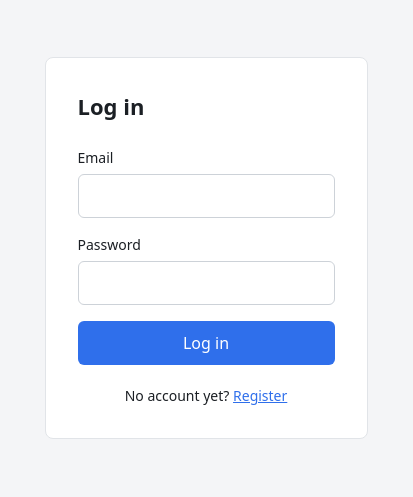
Scenario: login and protected page › returns to login with a notice when the token is rejected
In the field labelled "Email": point(206, 196) x1=78 y1=174 x2=334 y2=218, type "jane@example.com"
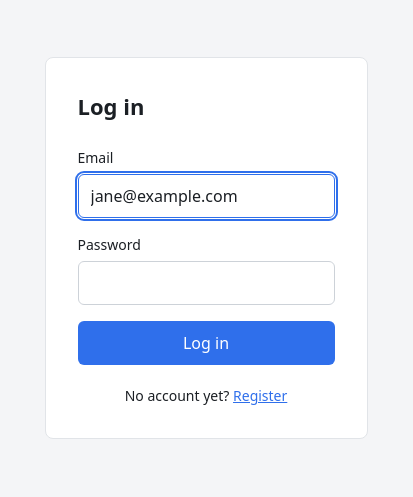
In the password field labelled "Password": point(206, 283) x1=78 y1=261 x2=334 y2=305, type "secret123"
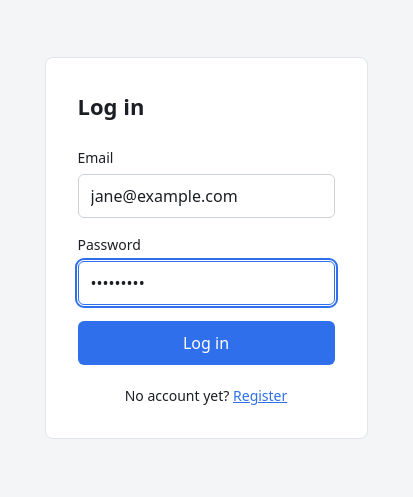
Click the button "Log in": point(206, 343) x1=78 y1=321 x2=334 y2=365
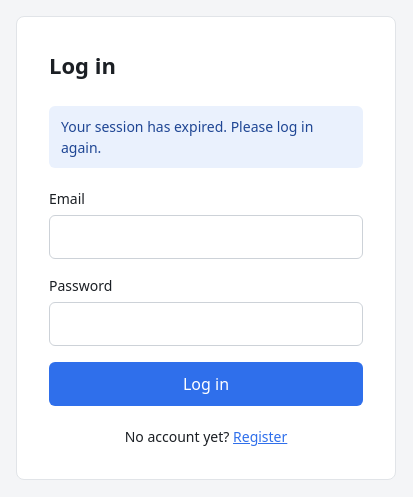
expect the text "Your session has expired. Please log in again." is shown: met, box x1=49 y1=106 x2=363 y2=168
